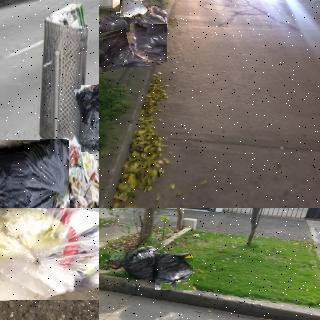Garbage: (0, 208, 99, 301), (0, 139, 69, 208), (99, 30, 151, 69), (77, 83, 99, 153), (123, 246, 163, 284), (130, 24, 167, 62), (155, 254, 193, 290), (99, 13, 128, 52), (120, 0, 147, 17)
